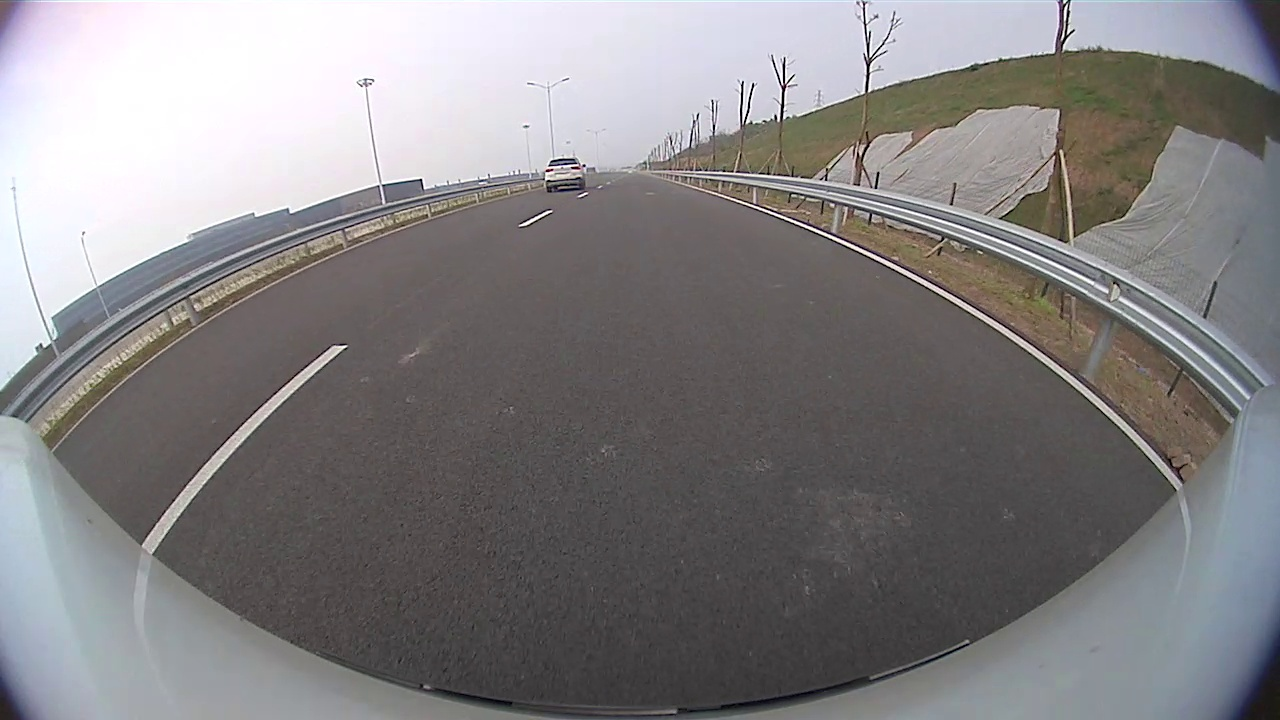car: (543, 154, 588, 197)
